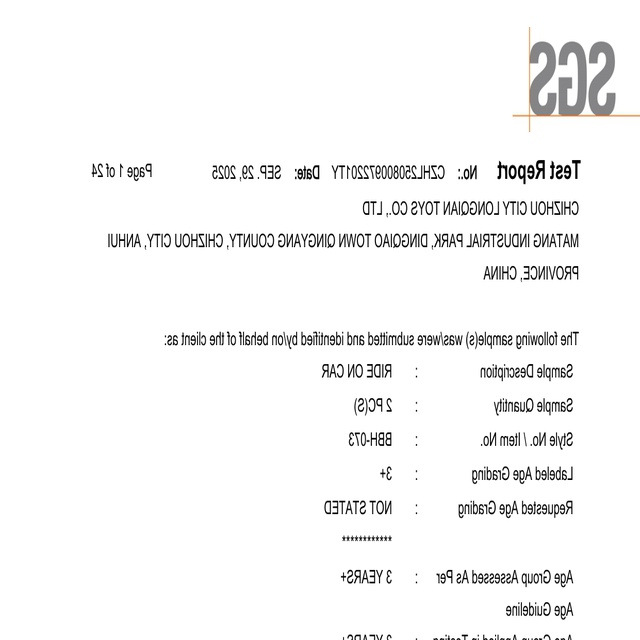sgs: (529, 39, 617, 116)
